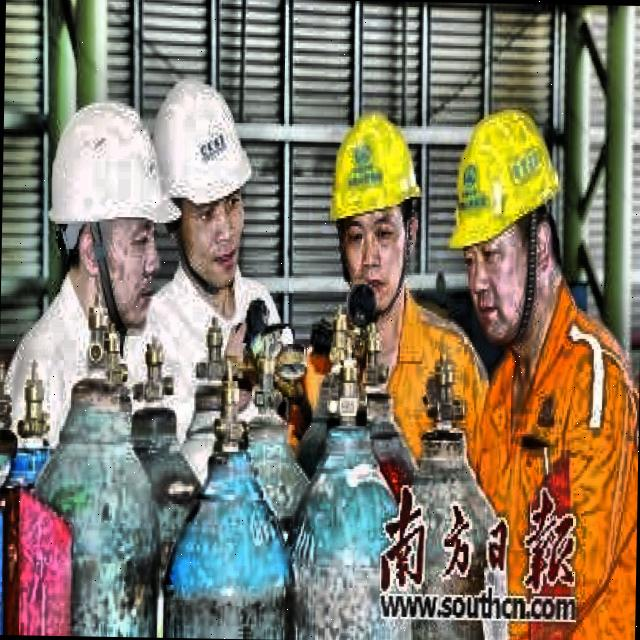helmet: (440, 91, 575, 351), (36, 91, 170, 334), (152, 68, 258, 292), (322, 96, 426, 308)
